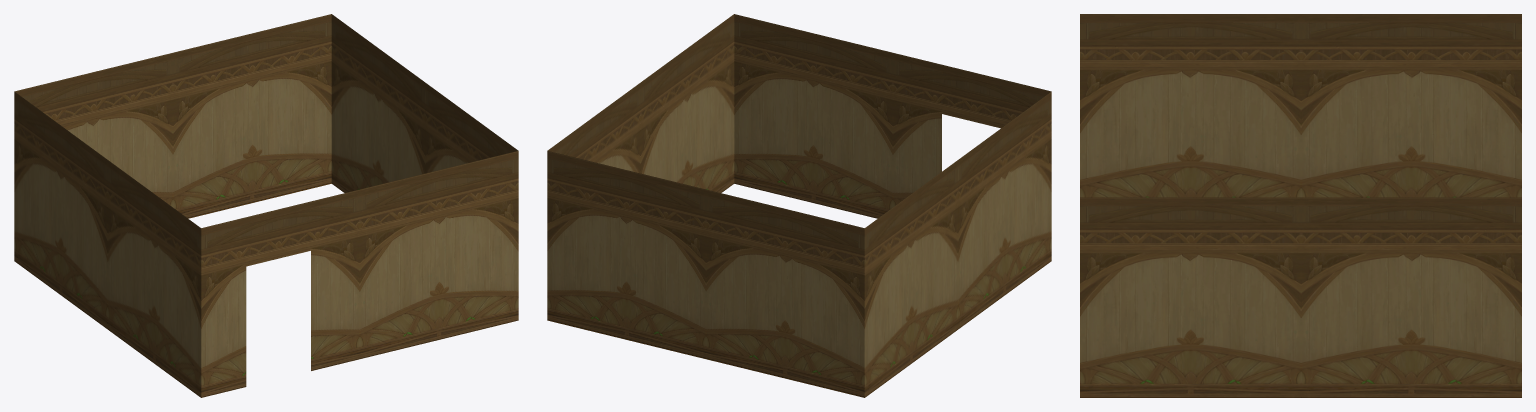
The model's file is Homeworld_Interior_Xm_Room_A_Filling_01_Vo.fbx.
3 renders of one model, left to right at view 1: azimuth 30°, elevation 25°; view 2: azimuth 150°, elevation 25°; view 3: azimuth 270°, elevation 25°, orthographic. The views are drawn at different scales.
Parts seen in each view (by area): view 1: Homeworld_Interior_Xm_Room_A_Filling_01_Vo; view 2: Homeworld_Interior_Xm_Room_A_Filling_01_Vo; view 3: Homeworld_Interior_Xm_Room_A_Filling_01_Vo.
Boxes of the visible parts, <box> form: Homeworld_Interior_Xm_Room_A_Filling_01_Vo: <box>14,14,518,397</box>; Homeworld_Interior_Xm_Room_A_Filling_01_Vo: <box>547,14,1051,397</box>; Homeworld_Interior_Xm_Room_A_Filling_01_Vo: <box>1080,14,1521,397</box>.
Size of the model in its own units: 9.75 by 4.98 by 9.94.
